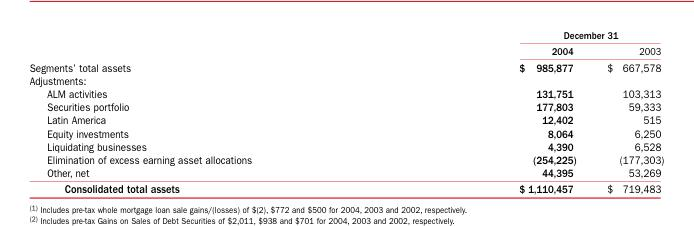table: (28, 28, 663, 195)
table column: (28, 28, 384, 195), (384, 28, 590, 195), (590, 28, 663, 195)
table column header: (28, 28, 663, 58)
table projected row header: (28, 73, 663, 86)
table row: (28, 42, 663, 58), (28, 58, 663, 73), (28, 165, 663, 180), (28, 180, 663, 195), (28, 28, 663, 42), (28, 86, 663, 100), (28, 73, 663, 86), (28, 100, 663, 113), (28, 113, 663, 126), (28, 126, 663, 139), (28, 139, 663, 152), (28, 152, 663, 165)
table spanning cell: (384, 28, 663, 42)
